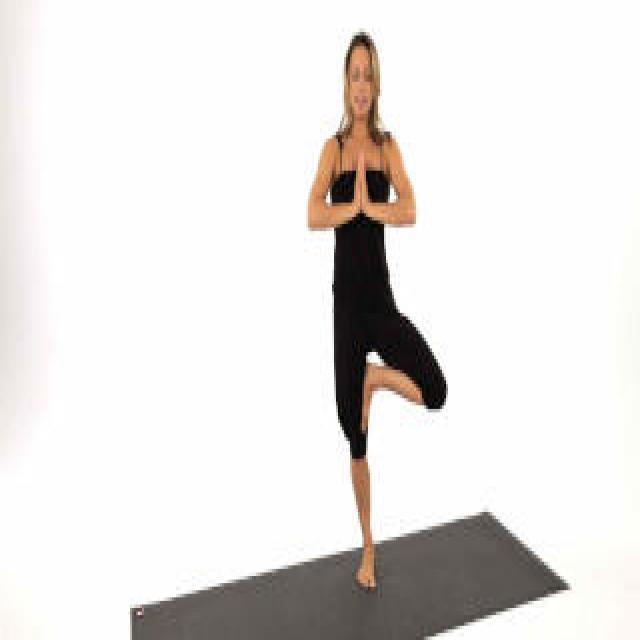yoga-pose tree: (310, 31, 448, 594)
